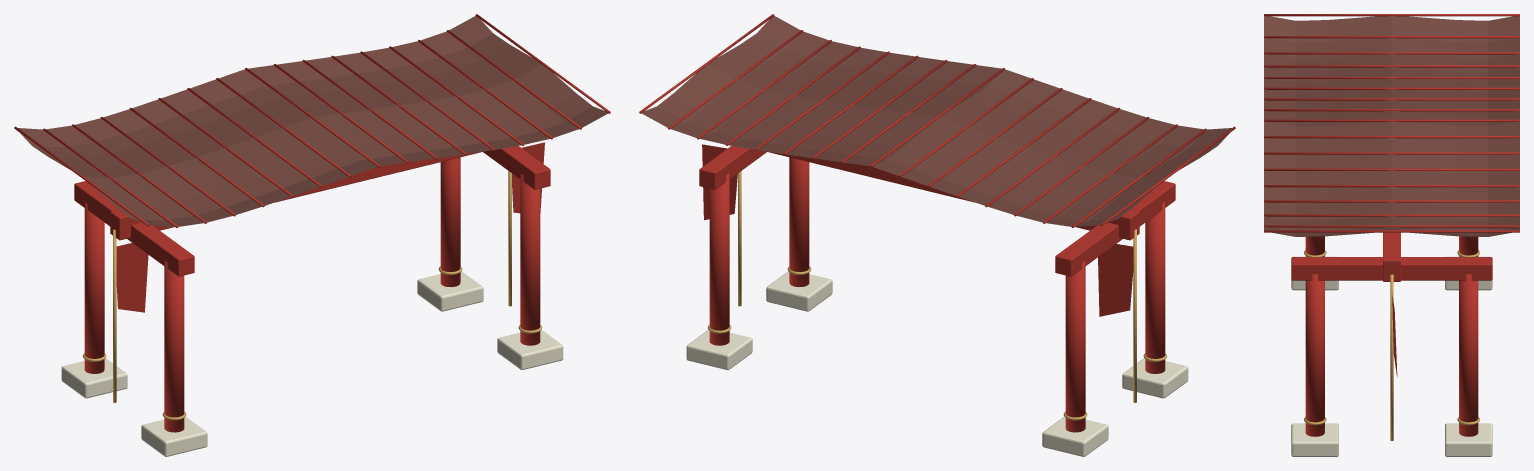
The model's file is pavilion.glb.
3 views of the same model, side by side, from view 1: azimuth 30°, elevation 25°; view 2: azimuth 150°, elevation 25°; view 3: azimuth 270°, elevation 25° (orthographic). The views are drawn at different scales.
Visible parts, largest first — view 1: pavilion_Terracotta roof tiles, pavilion_Lacquer red, pavilion_Carved limestone, pavilion_Antique bronze; view 2: pavilion_Terracotta roof tiles, pavilion_Lacquer red, pavilion_Carved limestone, pavilion_Antique bronze; view 3: pavilion_Terracotta roof tiles, pavilion_Lacquer red, pavilion_Carved limestone, pavilion_Antique bronze.
Part boxes in pixels (x1,y1,x2,y2): pavilion_Terracotta roof tiles: [18, 16, 608, 226]; pavilion_Lacquer red: [14, 14, 610, 432]; pavilion_Carved limestone: [61, 271, 563, 456]; pavilion_Antique bronze: [83, 171, 542, 420]; pavilion_Terracotta roof tiles: [641, 16, 1231, 226]; pavilion_Lacquer red: [639, 14, 1235, 432]; pavilion_Carved limestone: [686, 271, 1188, 456]; pavilion_Antique bronze: [707, 171, 1166, 420]; pavilion_Terracotta roof tiles: [1264, 16, 1519, 236]; pavilion_Lacquer red: [1264, 14, 1519, 436]; pavilion_Carved limestone: [1291, 256, 1492, 456]; pavilion_Antique bronze: [1304, 250, 1479, 440].
Size of the model in its own units: 28.26 by 14.77 by 14.
